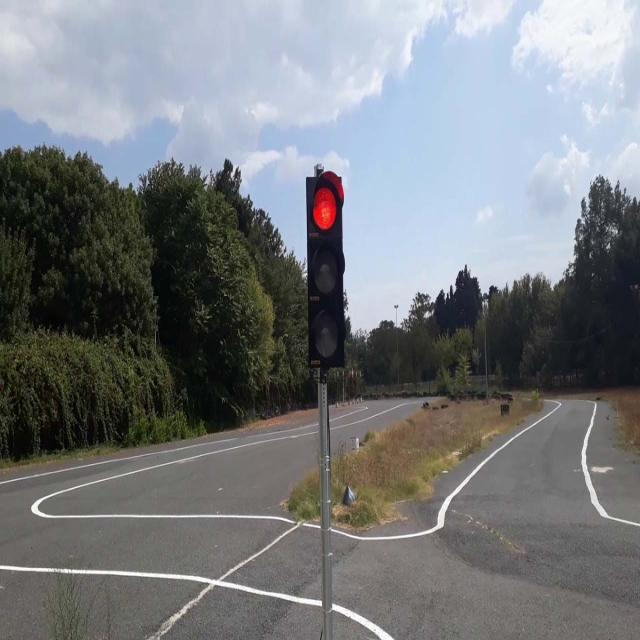kirmizi: (308, 173, 346, 368)
